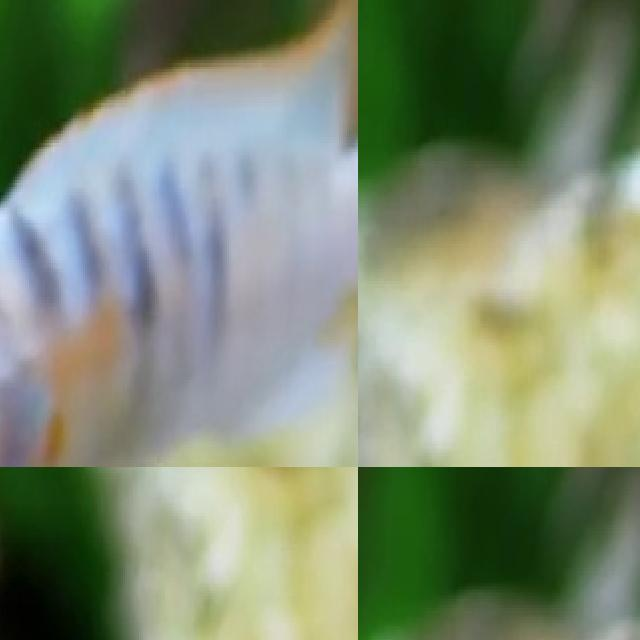fish: (0, 0, 358, 467)
